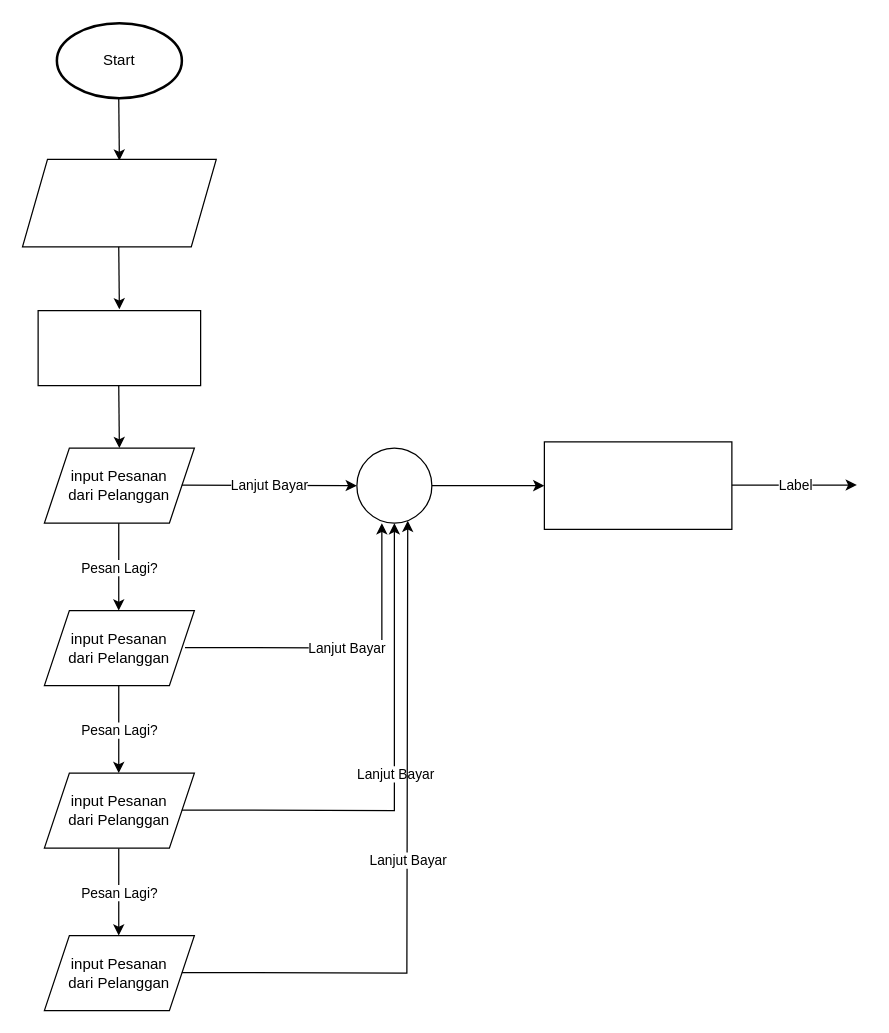
The diagram is 889 pixels wide and 1033 high, and some of its shapes have lost their labels. The shapes that lost their labels are listed below. From the top down, each one's centre as x and y in pixels, then its label:
[118,202]: input Menu String namaMenu double harga String kategori
[119,347]: Menampilkan Menu
[637,485]: Menghitung Total Harga Pesanan + Pajak 10% + Biaya Pelayanan Rp 20.000
